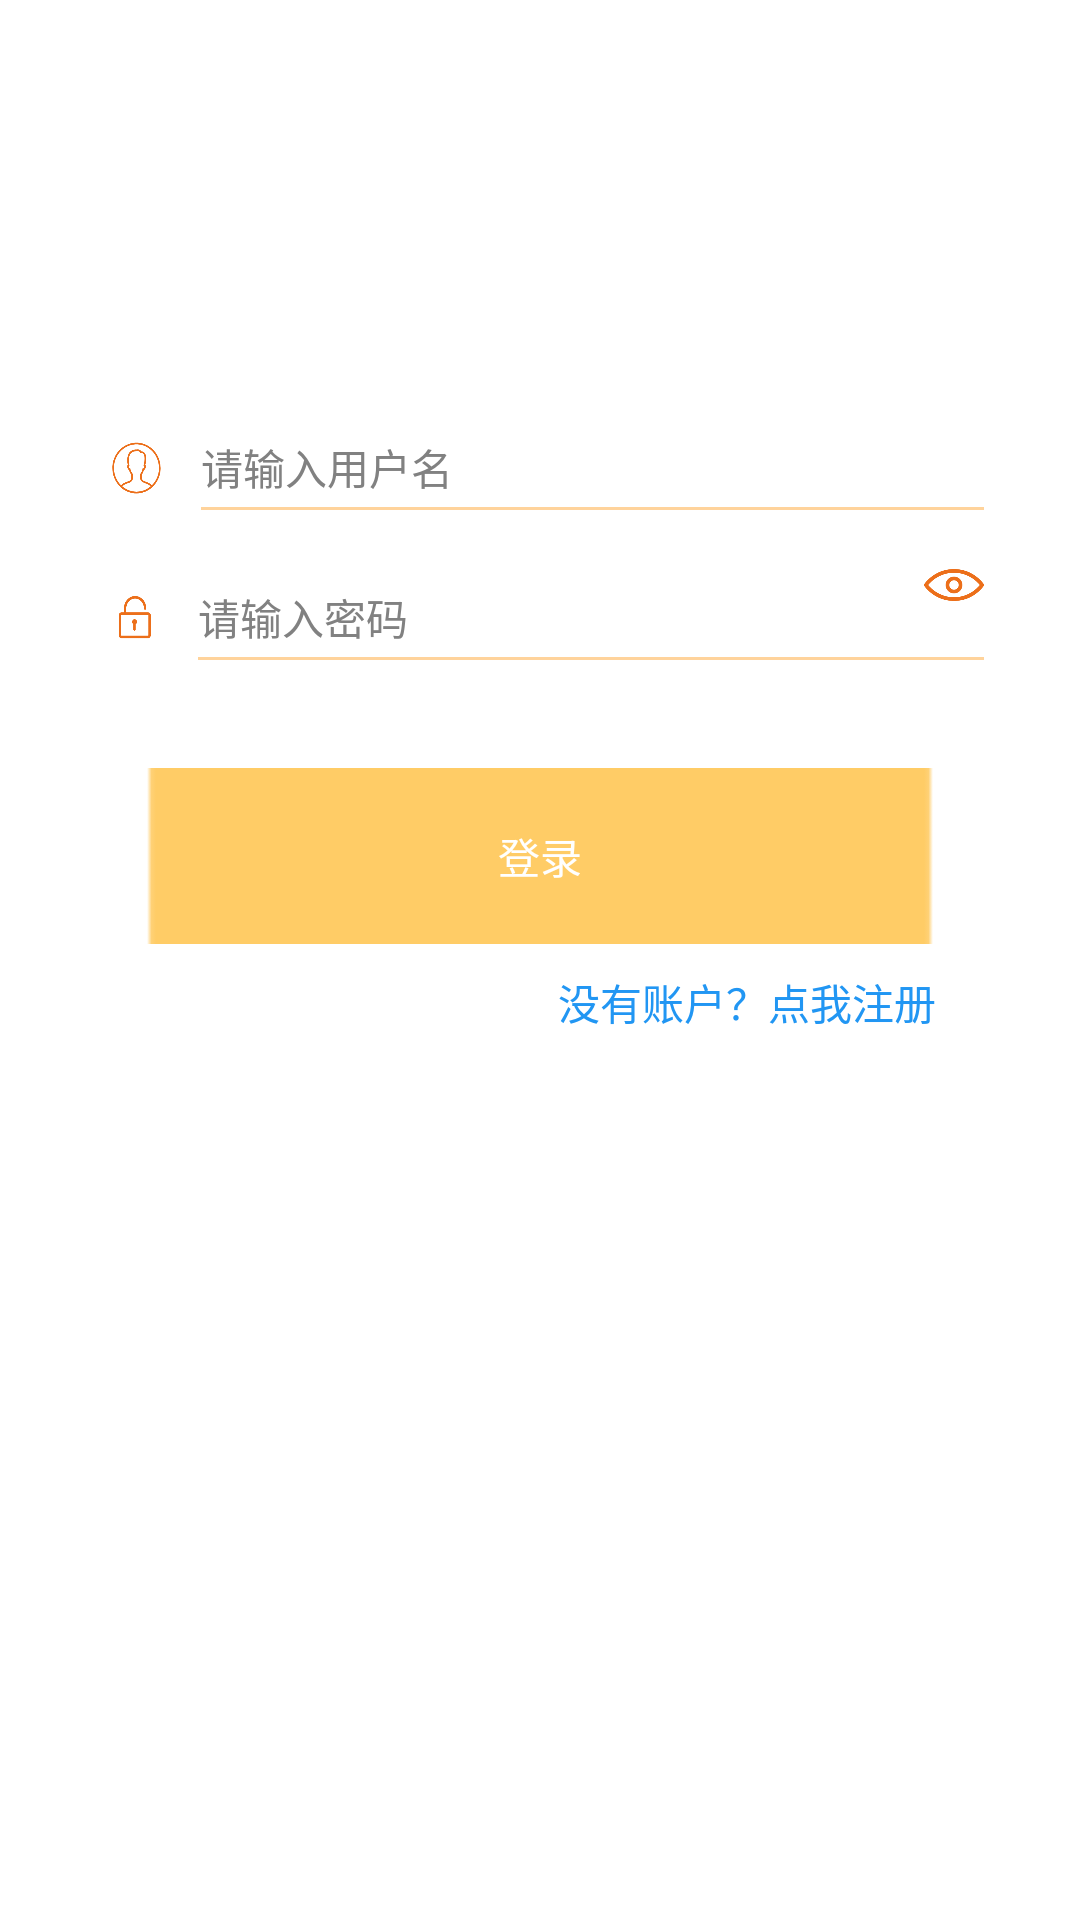

Icons on this 1080 x 1920 Android screen, each with its box as {"x1": x1, "y1": y1, "x2": x2, "y2": y2}:
eye: {"x1": 924, "y1": 569, "x2": 984, "y2": 601}
password: {"x1": 119, "y1": 596, "x2": 151, "y2": 638}
user: {"x1": 112, "y1": 442, "x2": 161, "y2": 494}
